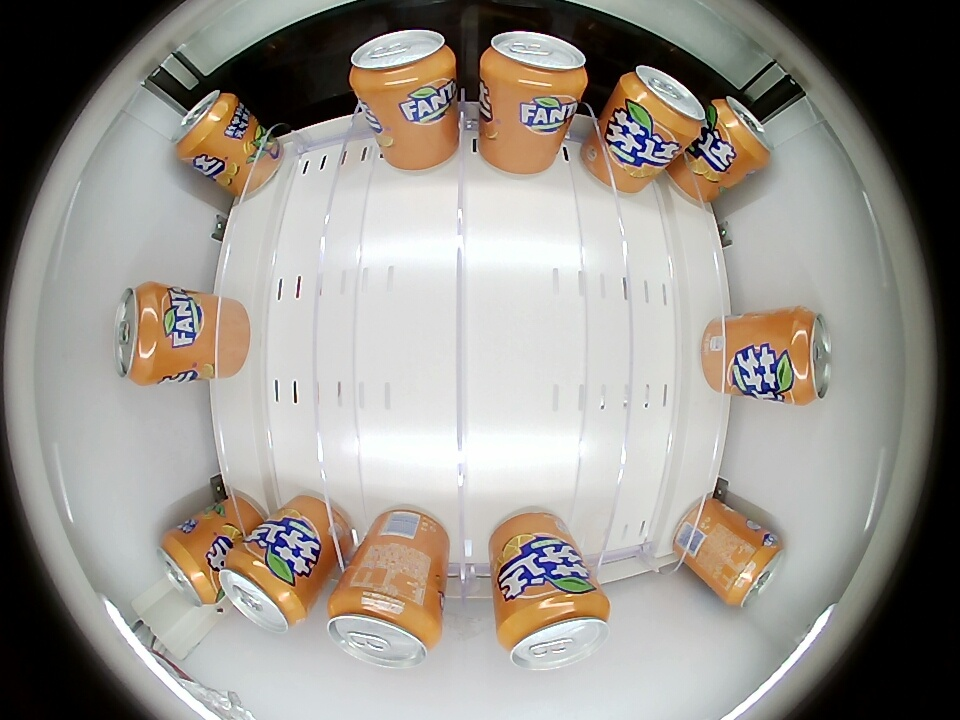fenda: (326, 587, 442, 668), (497, 589, 611, 671), (480, 31, 589, 104), (349, 30, 457, 101), (221, 549, 308, 634), (619, 65, 705, 141), (114, 282, 172, 386), (779, 307, 832, 405), (722, 532, 785, 608), (174, 89, 237, 164), (158, 530, 219, 607), (712, 95, 772, 170)
